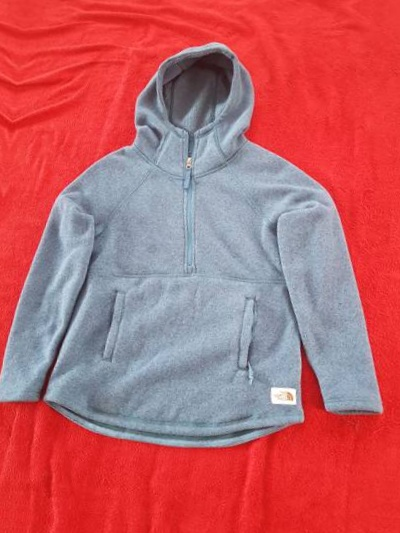Hoodie: (0, 7, 400, 458), (0, 0, 24, 409)
